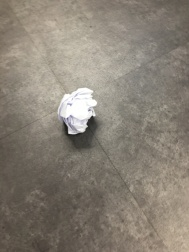paper_white: (50, 76, 135, 163)
